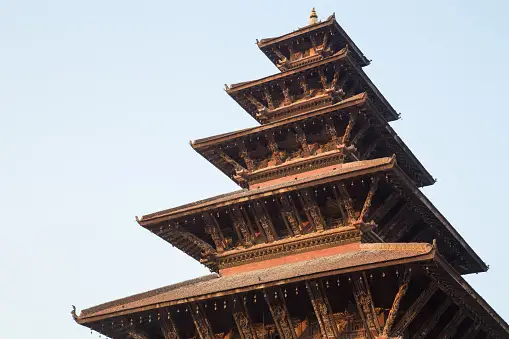nyathapola: (105, 0, 508, 339)
